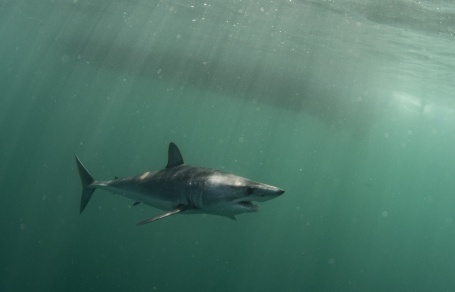Mako: (66, 139, 286, 238)
